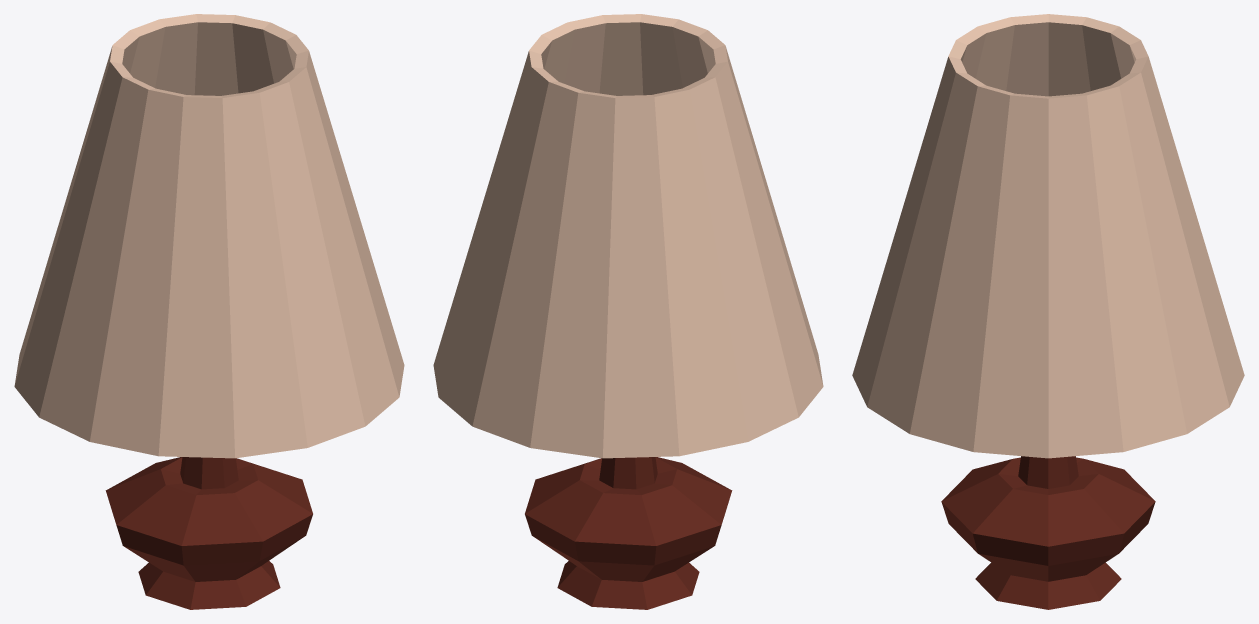
Rendered from ramp.fbx.
3 views of the same model, side by side, from view 1: azimuth 30°, elevation 25°; view 2: azimuth 150°, elevation 25°; view 3: azimuth 270°, elevation 25° (orthographic).
Parts seen in each view (by area): view 1: 円.001; view 2: 円.001; view 3: 円.001.
Part boxes in pixels (<box>): 円.001: <box>14,14,404,609</box>; 円.001: <box>433,14,823,609</box>; 円.001: <box>852,14,1244,609</box>.
Bounding box in the file's own units: 153 × 225 × 153.
